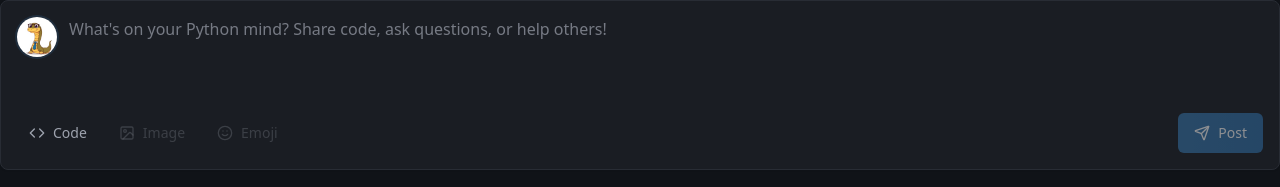
PostComposer › enables post button when user is signed in and has content
Type "Test content" into the text box with placeholder "What's on your Python mind".
click(666, 57); type("Test content")  # box [69,17,1263,97]
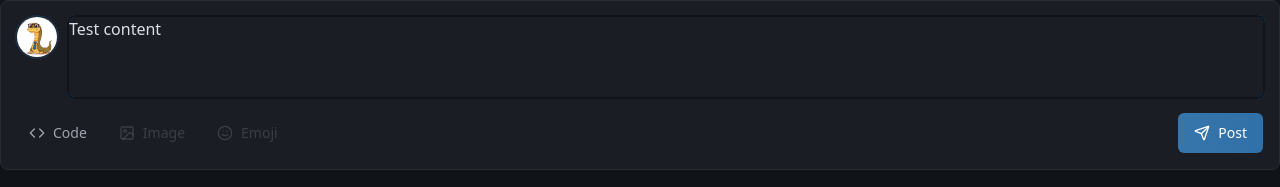
Result: the button "Post" is enabled at [1178,113,1263,153]
